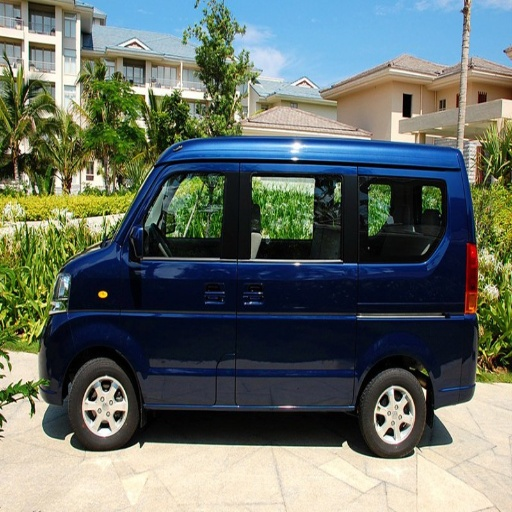trunk: (324, 293, 467, 405)
